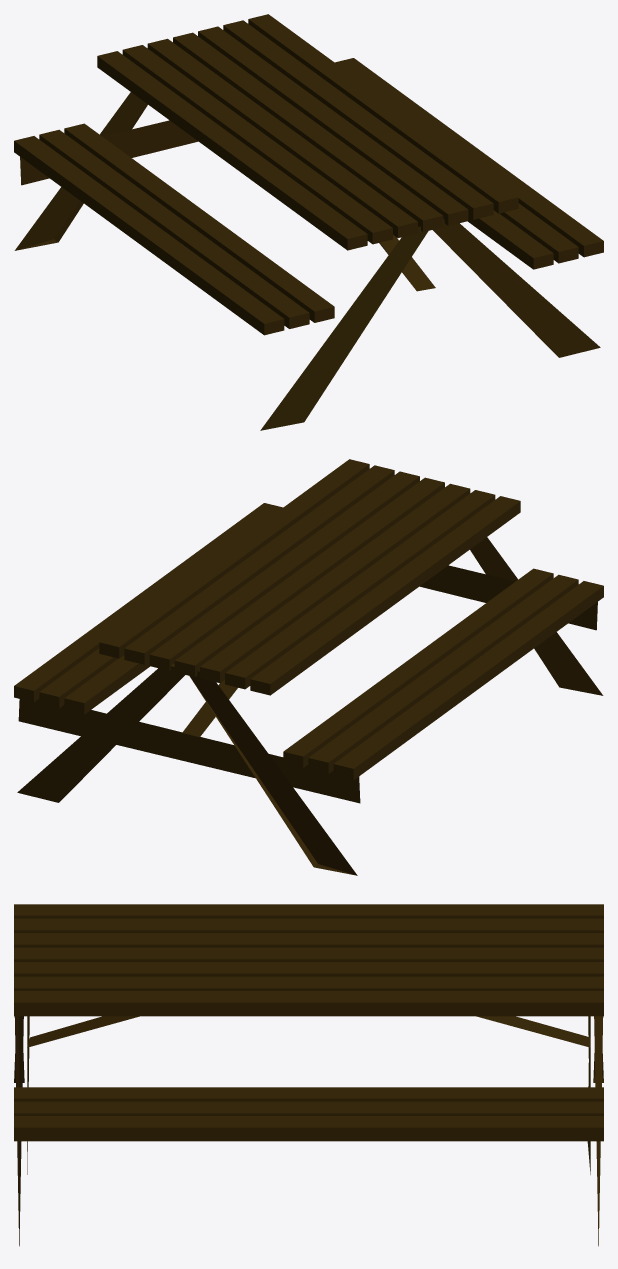
File: Picnic Table.glb
The picture shows the model from 3 angles, top to bottom: view 1: azimuth 30°, elevation 25°; view 2: azimuth 150°, elevation 25°; view 3: azimuth 270°, elevation 25°; orthographic projection. The views are drawn at different scales.
Parts seen in each view (by area): view 1: Picnic Table; view 2: Picnic Table; view 3: Picnic Table.
Boxes of the visible parts, x1,y1,x2,y2 form: Picnic Table: (14,14,603,430); Picnic Table: (14,459,603,875); Picnic Table: (14,904,603,1246).
Size of what is drawn, in the model's own units: 1.69 by 0.8126 by 2.13.
